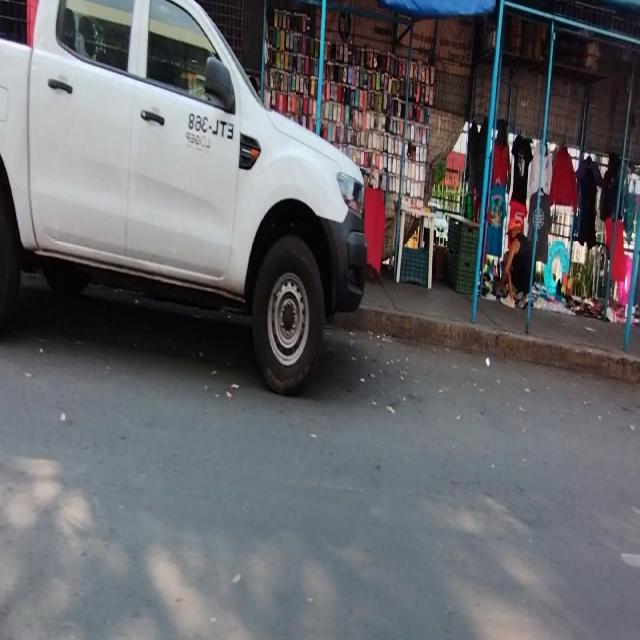adult: (500, 218, 536, 308)
